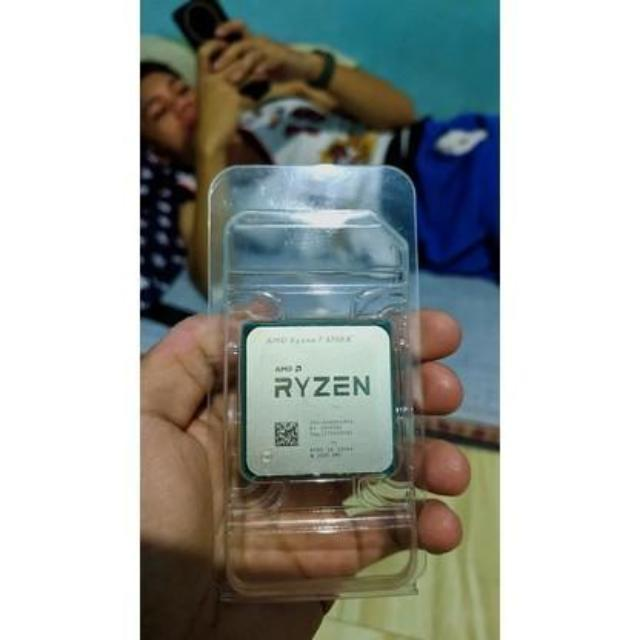CPU: (242, 322, 396, 476)
